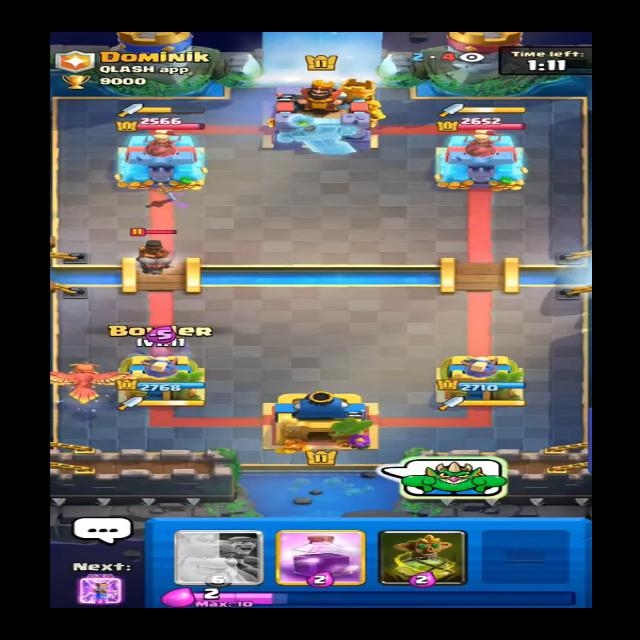ram-rider: (127, 230, 175, 275)
